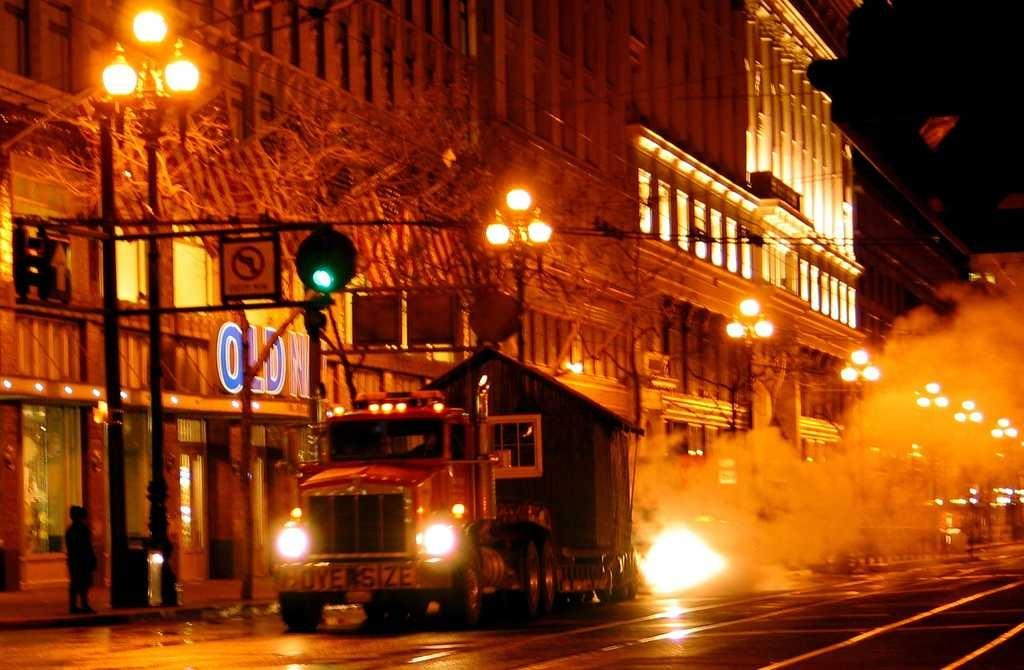fire: (650, 532, 715, 585)
